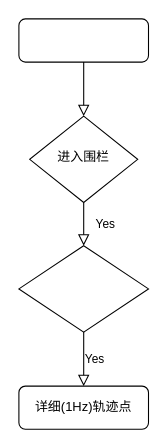
The diagram is 167 pixels wide and 448 high, and some of its shapes have lost their labels. Here are the shapes that lost their labels. From the top down, the centre of each, then its label:
At point 83,40: "普通(0.2Hz)轨迹点".
At point 83,288: "下发详细轨迹订单".
